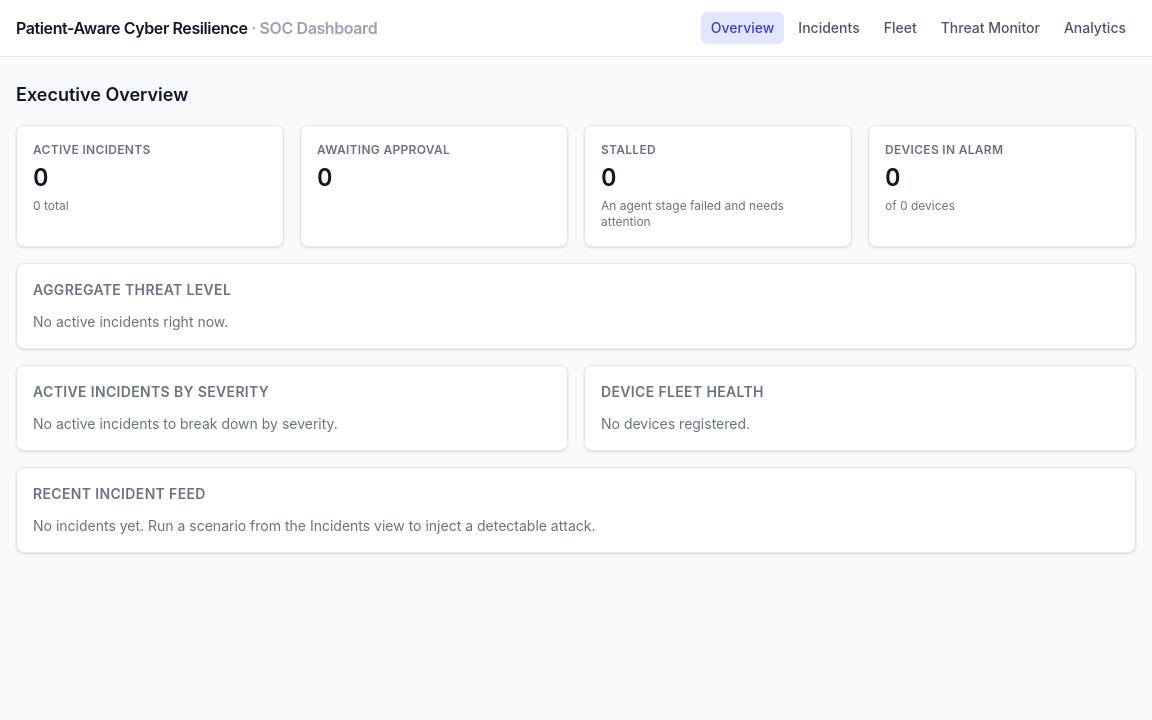
Test: App › navigates through every primary nav destination on one query client
Expected: the heading "Executive Overview" is shown, left=16, top=84, right=188, bottom=105
Click the link "Incidents": (829, 28) left=798, top=19, right=860, bottom=36
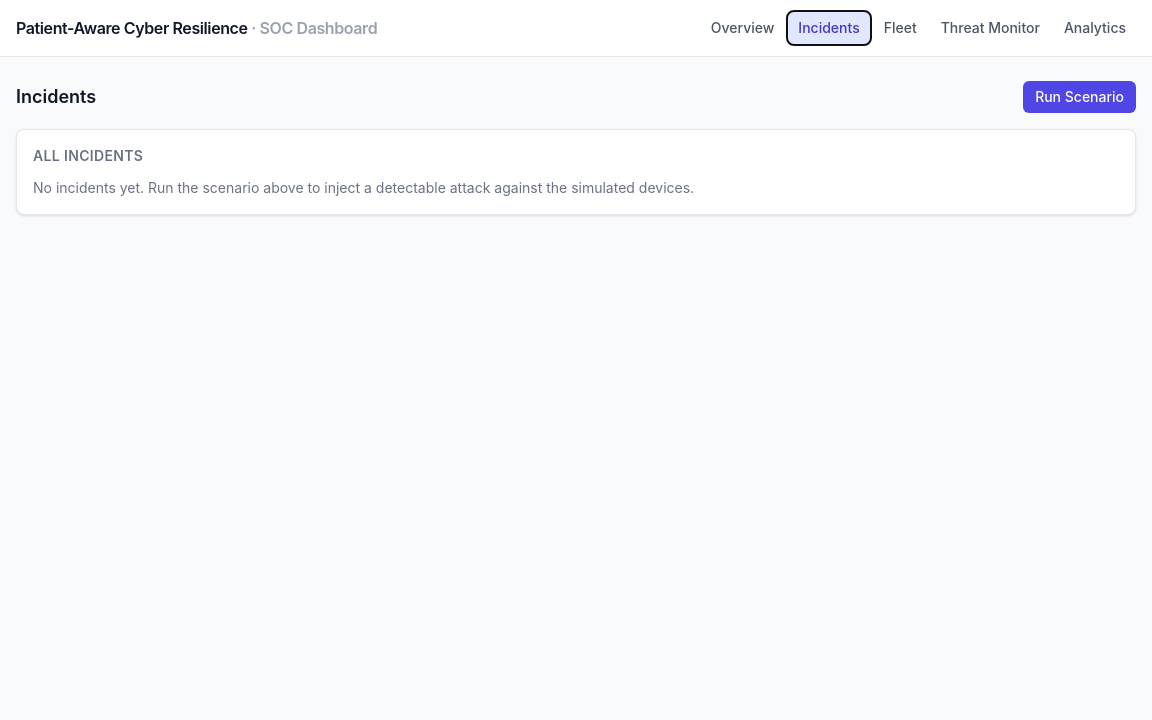
Now the heading "Incidents" is shown, box left=16, top=83, right=96, bottom=111
Now the button "Run Scenario" is shown, box left=1023, top=81, right=1136, bottom=113
Click the link "Fleet": (900, 28) left=884, top=19, right=917, bottom=36
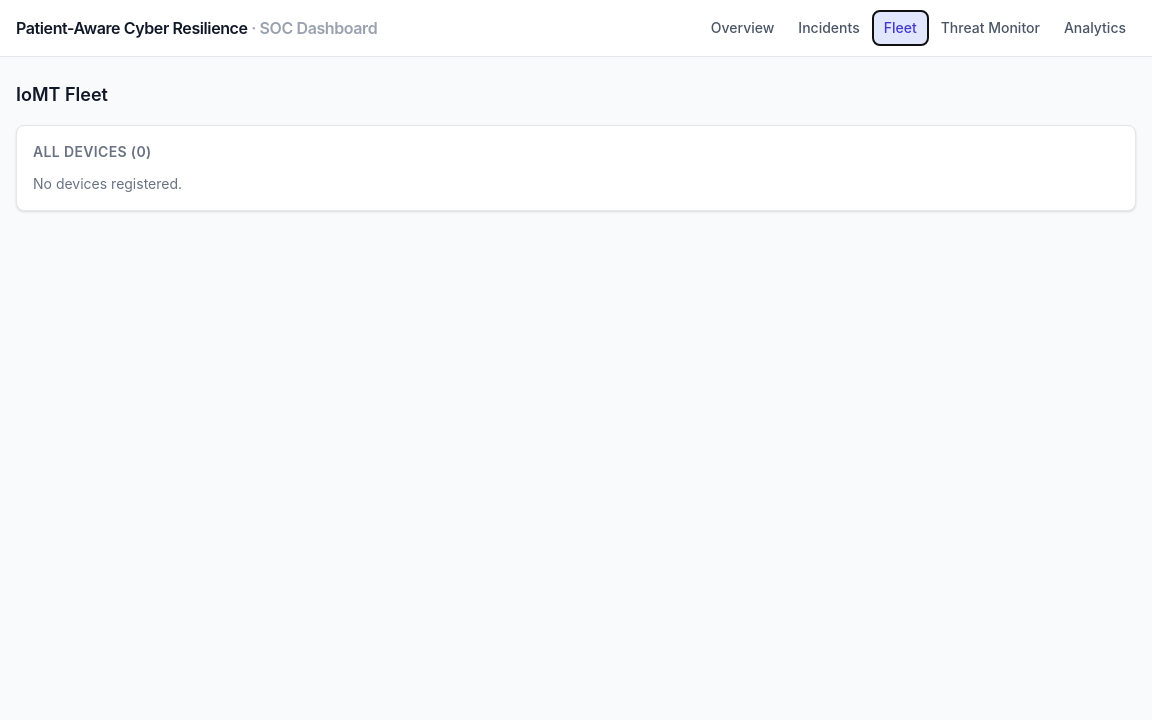
Now the heading "IoMT Fleet" is shown, box left=16, top=84, right=108, bottom=105
Click the link "Threat Monitor": (990, 28) left=941, top=19, right=1040, bottom=36
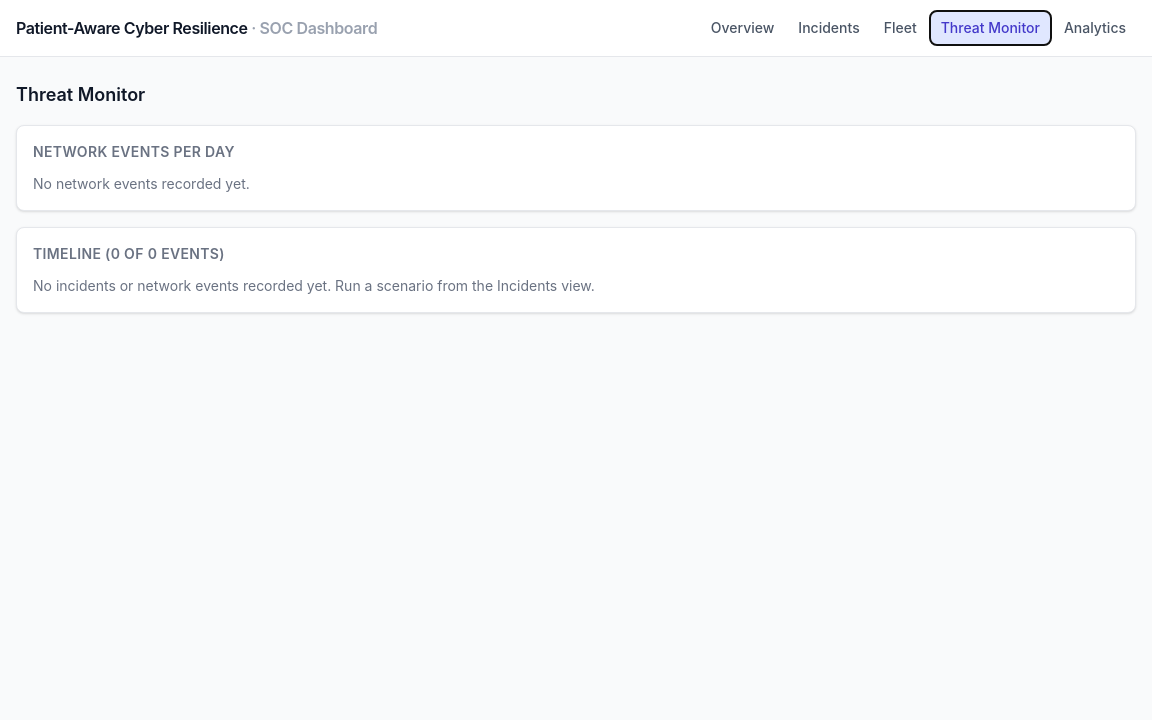
Now the heading "Threat Monitor" is shown, box left=16, top=84, right=145, bottom=105
Click the link "Analytics": (1095, 28) left=1064, top=19, right=1126, bottom=36
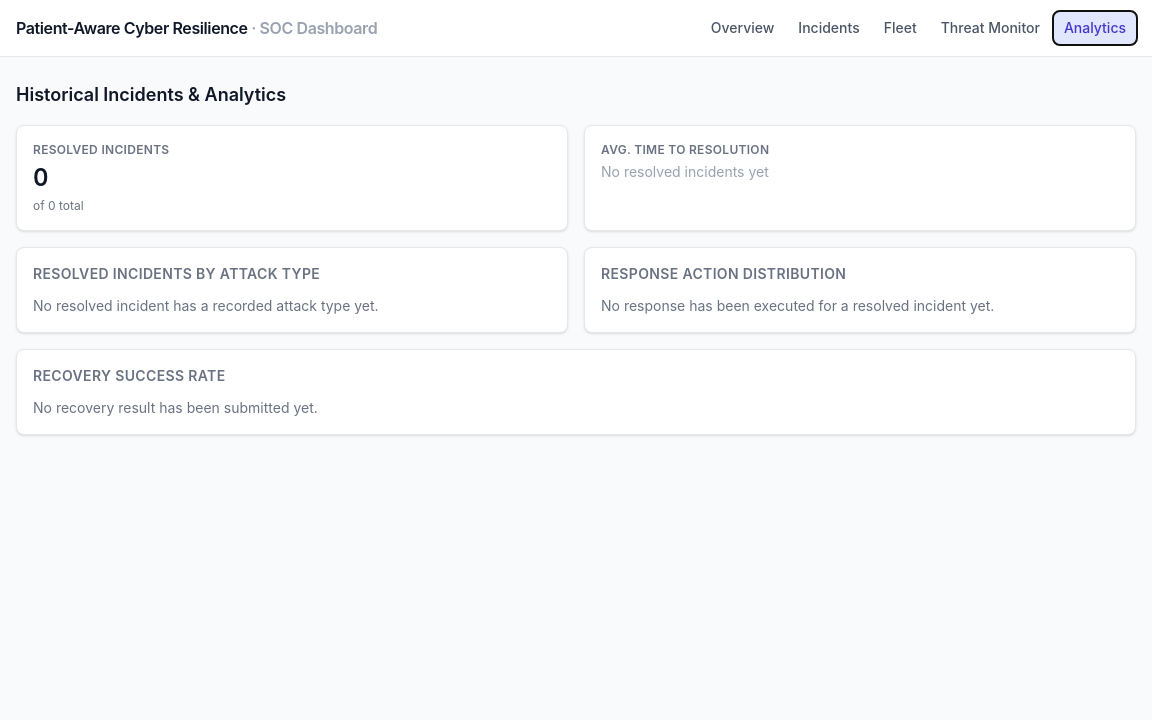
Now the heading "Historical Incidents & Analytics" is shown, box left=16, top=84, right=286, bottom=105
